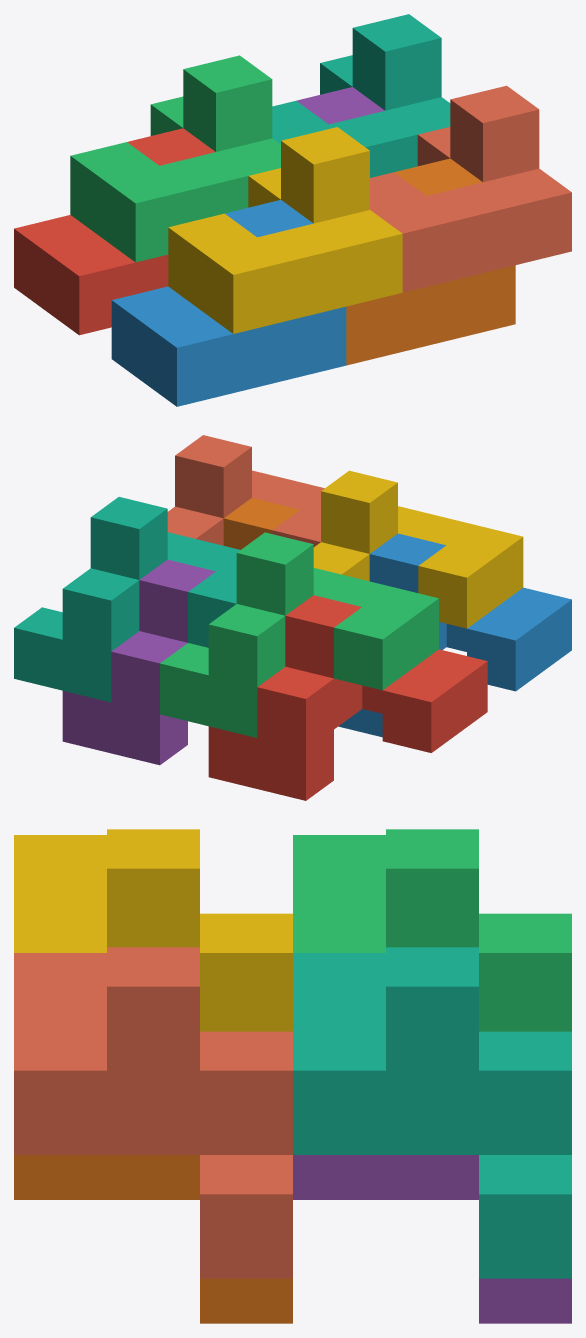
File: tiling.obj
The picture shows the model from 3 angles, top to bottom: view 1: azimuth 30°, elevation 25°; view 2: azimuth 150°, elevation 25°; view 3: azimuth 270°, elevation 25°; orthographic projection. The views are drawn at different scales.
Visible parts, largest first — view 1: copy_1_domain_4, copy_1_domain_8, copy_1_domain_3, copy_1_domain_2, copy_1_domain_7, copy_1_domain_1, copy_1_domain_6, copy_1_domain_5; view 2: copy_1_domain_3, copy_1_domain_1, copy_1_domain_7, copy_1_domain_4, copy_1_domain_5, copy_1_domain_2, copy_1_domain_8, copy_1_domain_6; view 3: copy_1_domain_7, copy_1_domain_8, copy_1_domain_3, copy_1_domain_4, copy_1_domain_5, copy_1_domain_6.
Boxes of the visible parts, box(x1,y1,x2,y2) form: copy_1_domain_4: box(168, 127, 402, 333); copy_1_domain_8: box(370, 85, 571, 292); copy_1_domain_3: box(70, 55, 280, 262); copy_1_domain_2: box(111, 200, 346, 406); copy_1_domain_7: box(272, 14, 450, 177); copy_1_domain_1: box(14, 128, 215, 335); copy_1_domain_6: box(346, 158, 515, 365); copy_1_domain_5: box(296, 87, 384, 124); copy_1_domain_3: box(160, 532, 438, 737); copy_1_domain_1: box(208, 595, 487, 800); copy_1_domain_7: box(14, 497, 240, 702); copy_1_domain_4: box(313, 470, 523, 628); copy_1_domain_5: box(62, 559, 215, 765); copy_1_domain_2: box(338, 533, 571, 737); copy_1_domain_8: box(167, 435, 324, 546); copy_1_domain_6: box(223, 498, 299, 549); copy_1_domain_7: box(293, 947, 571, 1278); copy_1_domain_8: box(14, 947, 292, 1278); copy_1_domain_3: box(293, 829, 571, 1031); copy_1_domain_4: box(14, 829, 292, 1031); copy_1_domain_5: box(293, 1155, 571, 1323); copy_1_domain_6: box(14, 1155, 292, 1323).
Size of the model in its own units: 8 by 4 by 6.
